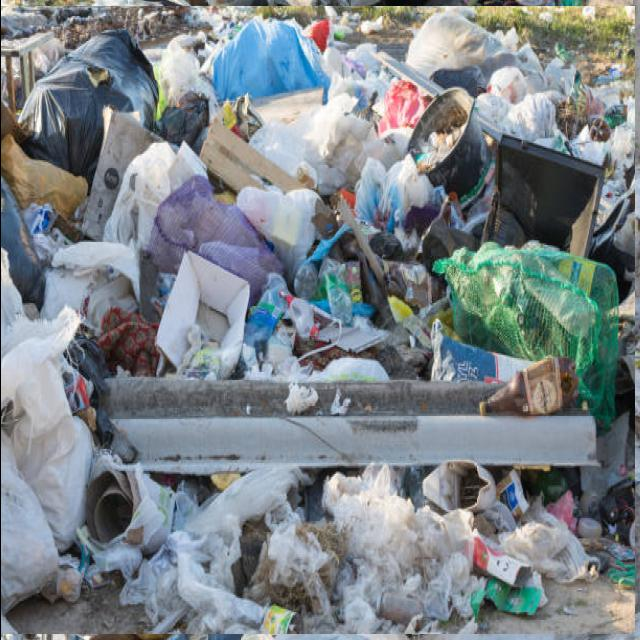garbage: (0, 3, 631, 638)
